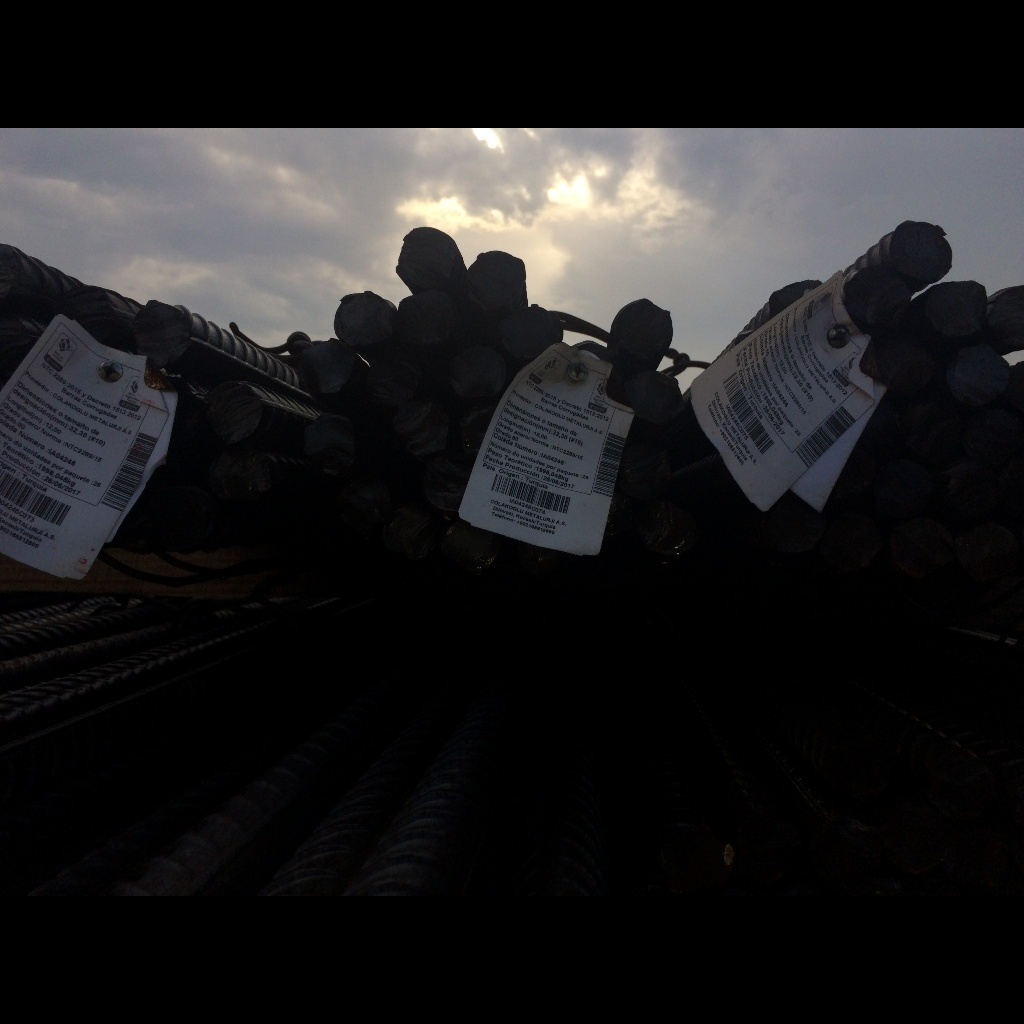dipstick: (334, 290, 398, 353), (133, 298, 192, 366), (395, 225, 459, 285), (613, 298, 672, 363), (948, 345, 1009, 405), (891, 219, 948, 280), (464, 250, 528, 304), (934, 280, 989, 340), (995, 286, 1024, 340), (285, 330, 311, 355)
